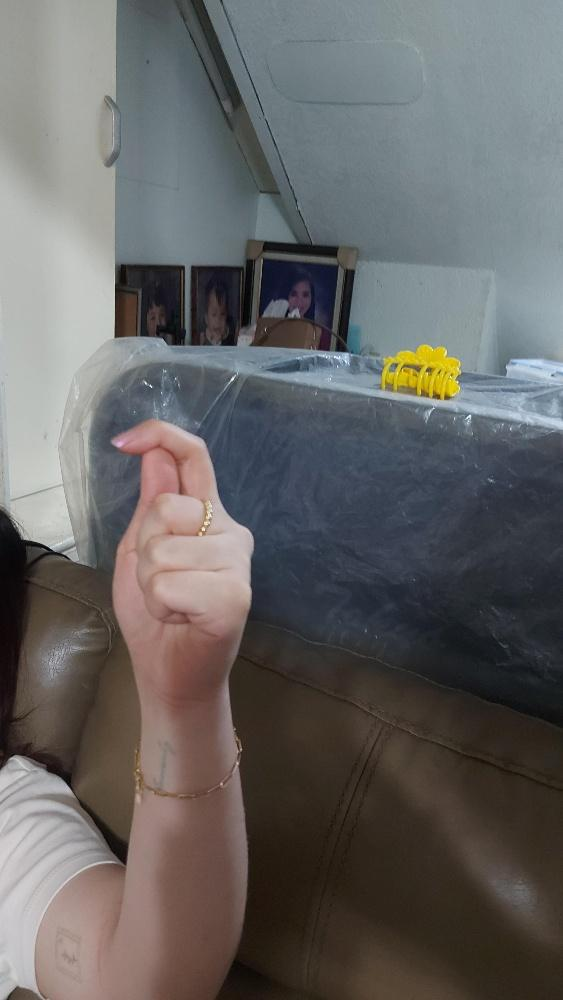t: (110, 416, 253, 703)
